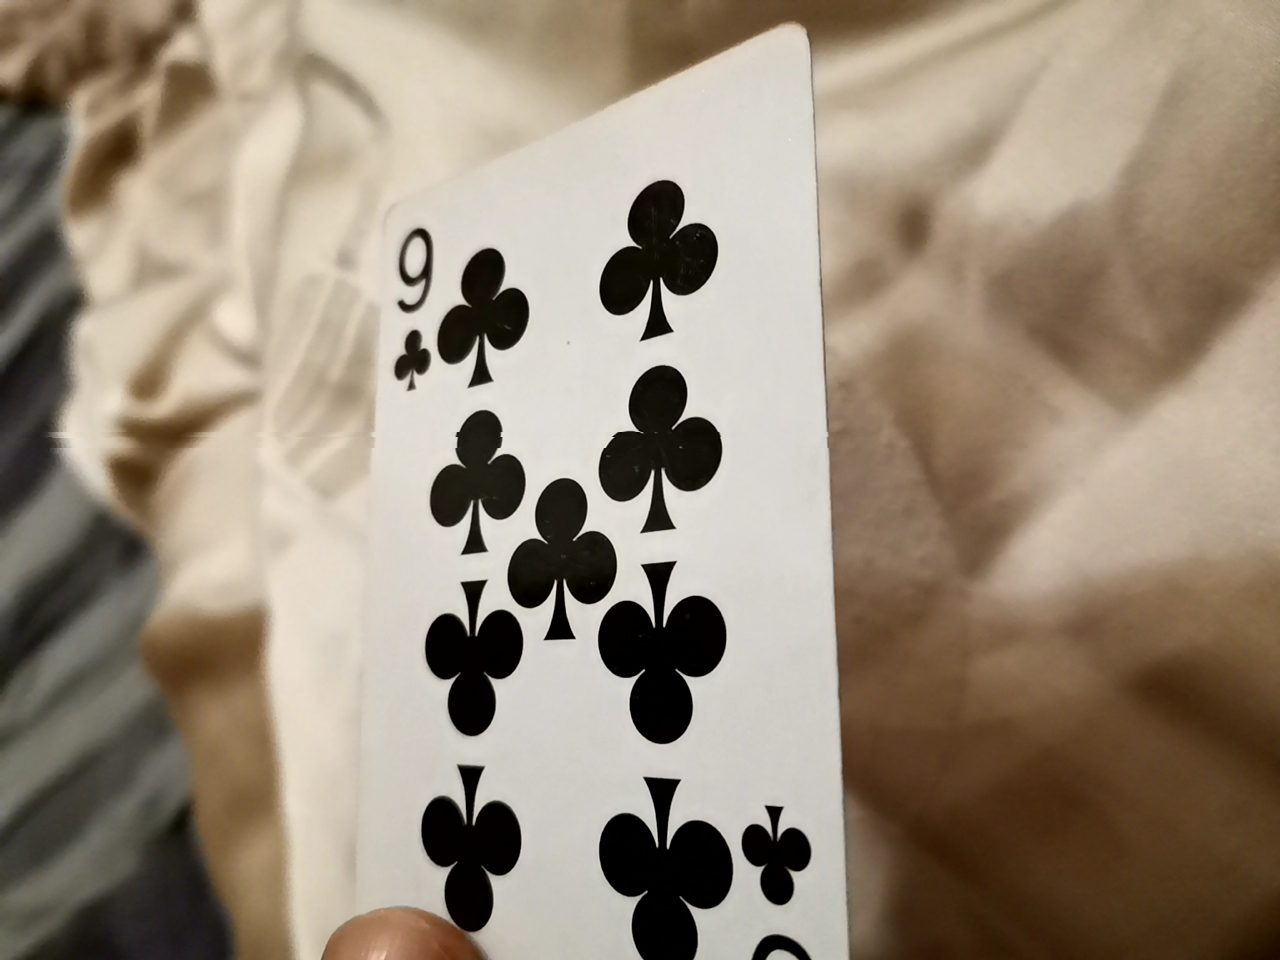mh 9: (328, 43, 866, 932)
